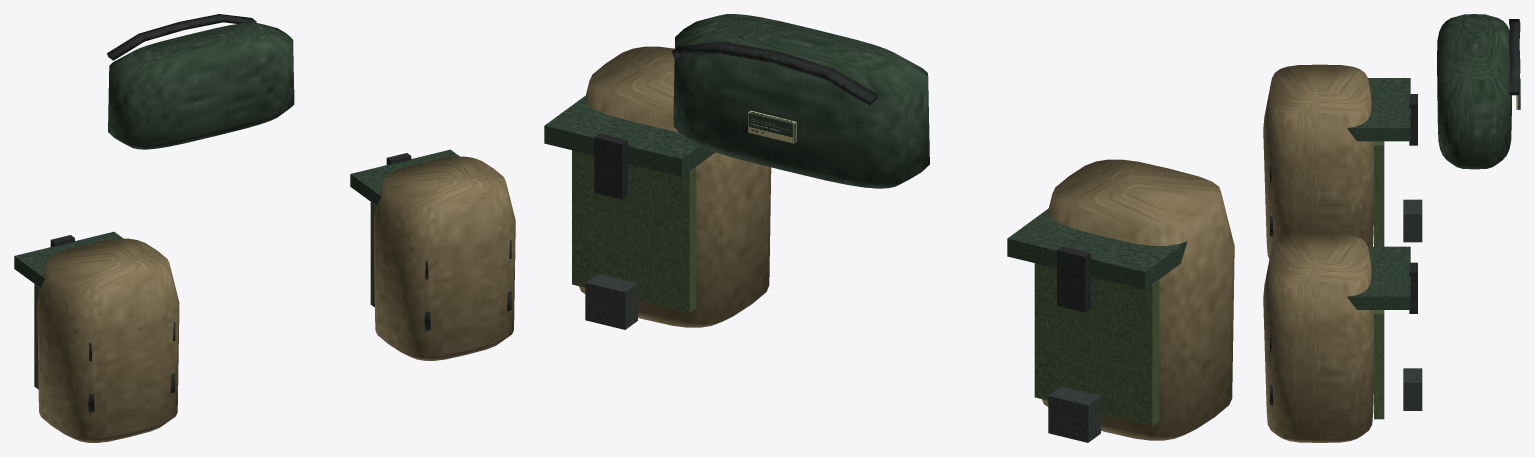
The model's file is PZ_MorrowTrail35_Detachable_Pouches.glb.
The picture shows the model from 3 angles, left to right: view 1: azimuth 30°, elevation 25°; view 2: azimuth 150°, elevation 25°; view 3: azimuth 270°, elevation 25°; orthographic projection. The views are drawn at different scales.
Parts seen in each view (by area): view 1: Right_Side_Pouch_Canvas_Shell, Left_Side_Pouch_Canvas_Shell, Front_Zip_Utility_Pouch, Right_Pouch_Flap, Left_Pouch_Flap, Utility_Pouch_Zipper; view 2: Front_Zip_Utility_Pouch, Left_Side_Pouch_Canvas_Shell, Right_Side_Pouch_Canvas_Shell, Left_Pouch_Reinforced_Face, Right_Pouch_Reinforced_Face, Left_Pouch_Flap, Right_Pouch_Flap, Utility_Pouch_Zipper, Left_Pouch_Clip_Buckle, Right_Pouch_Clip_Buckle, Left_Pouch_Flap_Webbing, Right_Pouch_Flap_Webbing (+1 smaller); view 3: Right_Side_Pouch_Canvas_Shell, Left_Side_Pouch_Canvas_Shell, Front_Zip_Utility_Pouch, Left_Pouch_Flap, Right_Pouch_Flap, Right_Pouch_Reinforced_Face, Left_Pouch_Reinforced_Face, Left_Pouch_Clip_Buckle, Utility_Pouch_Zipper, Right_Pouch_Clip_Buckle, Left_Pouch_Flap_Webbing, Right_Pouch_Flap_Webbing.
Boxes of the visible parts, bbox=[...] form: Right_Side_Pouch_Canvas_Shell: bbox=[373, 156, 515, 360]; Left_Side_Pouch_Canvas_Shell: bbox=[37, 238, 179, 442]; Front_Zip_Utility_Pouch: bbox=[108, 22, 294, 149]; Right_Pouch_Flap: bbox=[350, 149, 459, 205]; Left_Pouch_Flap: bbox=[14, 231, 123, 287]; Utility_Pouch_Zipper: bbox=[107, 14, 256, 60]; Front_Zip_Utility_Pouch: bbox=[673, 14, 929, 188]; Left_Side_Pouch_Canvas_Shell: bbox=[1041, 159, 1234, 440]; Right_Side_Pouch_Canvas_Shell: bbox=[579, 46, 771, 327]; Left_Pouch_Reinforced_Face: bbox=[1034, 263, 1159, 425]; Right_Pouch_Reinforced_Face: bbox=[572, 150, 696, 312]; Left_Pouch_Flap: bbox=[1007, 208, 1187, 289]; Right_Pouch_Flap: bbox=[544, 96, 715, 176]; Utility_Pouch_Zipper: bbox=[672, 41, 877, 105]; Left_Pouch_Clip_Buckle: bbox=[1048, 386, 1100, 442]; Right_Pouch_Clip_Buckle: bbox=[585, 273, 637, 329]; Left_Pouch_Flap_Webbing: bbox=[1057, 246, 1090, 312]; Right_Pouch_Flap_Webbing: bbox=[594, 133, 627, 199]; Right_Side_Pouch_Canvas_Shell: bbox=[1263, 233, 1373, 442]; Left_Side_Pouch_Canvas_Shell: bbox=[1263, 64, 1373, 258]; Front_Zip_Utility_Pouch: bbox=[1437, 14, 1511, 169]; Left_Pouch_Flap: bbox=[1347, 78, 1410, 141]; Right_Pouch_Flap: bbox=[1347, 246, 1410, 309]; Right_Pouch_Reinforced_Face: bbox=[1374, 310, 1384, 419]; Left_Pouch_Reinforced_Face: bbox=[1374, 141, 1384, 246]; Left_Pouch_Clip_Buckle: bbox=[1403, 199, 1422, 242]; Utility_Pouch_Zipper: bbox=[1509, 19, 1520, 95]; Right_Pouch_Clip_Buckle: bbox=[1403, 368, 1422, 410]; Left_Pouch_Flap_Webbing: bbox=[1409, 94, 1417, 145]; Right_Pouch_Flap_Webbing: bbox=[1409, 262, 1417, 313].
Bounding box in the file's own units: 0.622 × 0.378 × 0.2995.
Materials: 6 (6 with a texture image).
